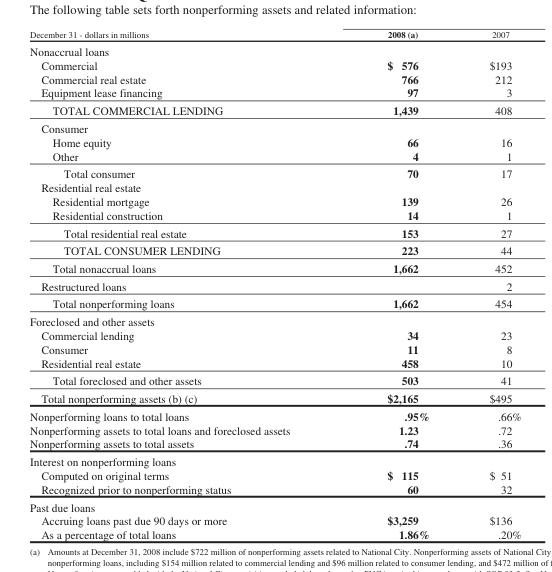table: (29, 28, 520, 540)
table column: (29, 28, 337, 540), (337, 28, 458, 540), (458, 28, 520, 540)
table column header: (29, 28, 520, 41)
table projected row header: (29, 41, 520, 57), (29, 452, 520, 468), (29, 497, 520, 513), (29, 119, 520, 134), (29, 312, 520, 327), (29, 180, 520, 194)
table row: (29, 101, 520, 119), (29, 223, 520, 241), (29, 241, 520, 259), (29, 276, 520, 294), (29, 294, 520, 312), (29, 371, 520, 389), (29, 259, 520, 276), (29, 389, 520, 406), (29, 41, 520, 57), (29, 85, 520, 101), (29, 148, 520, 164), (29, 164, 520, 180), (29, 207, 520, 223), (29, 355, 520, 371), (29, 406, 520, 422), (29, 436, 520, 452), (29, 452, 520, 468), (29, 481, 520, 497), (29, 497, 520, 513), (29, 119, 520, 134), (29, 312, 520, 327), (29, 57, 520, 71), (29, 71, 520, 85), (29, 134, 520, 148), (29, 180, 520, 194), (29, 327, 520, 341), (29, 341, 520, 355), (29, 422, 520, 436), (29, 513, 520, 527), (29, 28, 520, 41), (29, 194, 520, 207), (29, 468, 520, 481), (29, 527, 520, 540)
